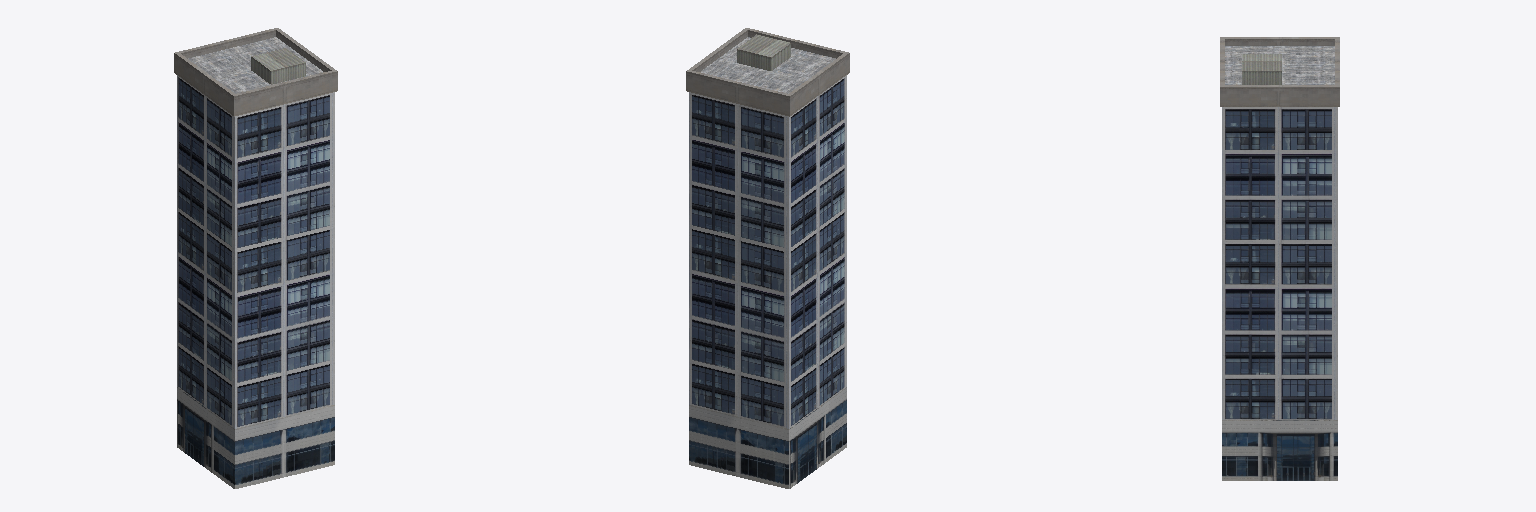
3 renders of one model, left to right at view 1: azimuth 30°, elevation 25°; view 2: azimuth 150°, elevation 25°; view 3: azimuth 270°, elevation 25°, orthographic.
Visible parts, largest first — view 1: building_6; view 2: building_6; view 3: building_6.
Part boxes in pixels (left/top/right/bottom): building_6: left=174, top=28, right=337, bottom=488; building_6: left=686, top=28, right=849, bottom=488; building_6: left=1220, top=37, right=1339, bottom=480.
Bounding box in the file's own units: 52.9 × 195 × 52.88.
1 materials, 1 textured.